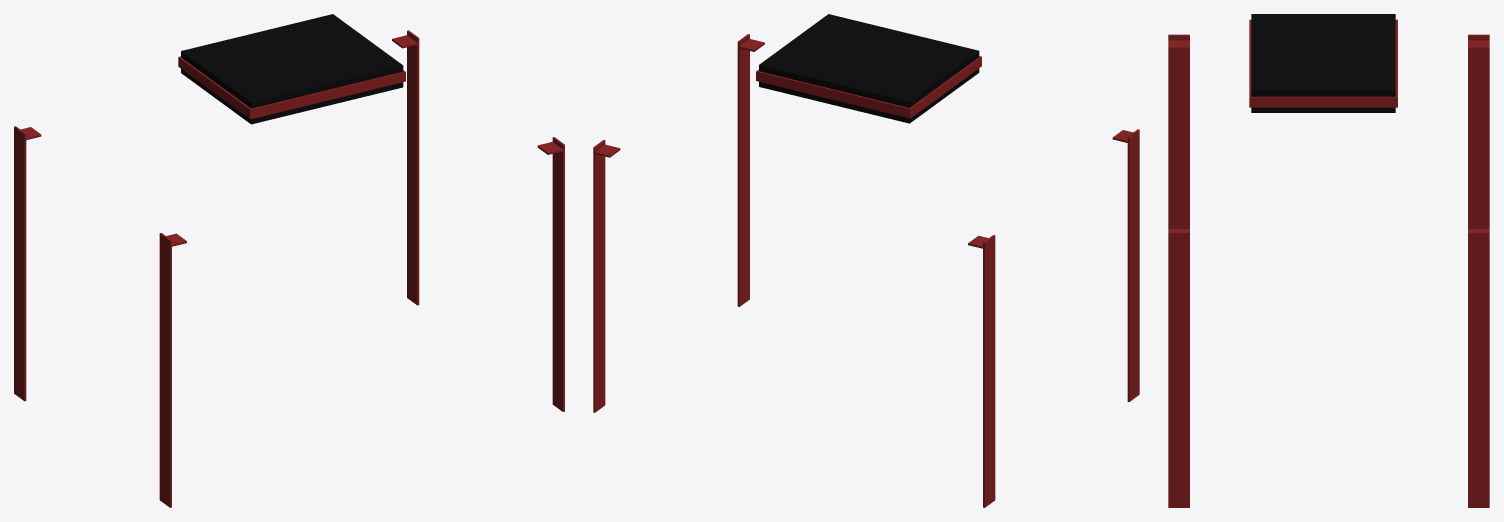
The model's file is z05_seal.obj.
3 views of the same model, side by side, from view 1: azimuth 30°, elevation 25°; view 2: azimuth 150°, elevation 25°; view 3: azimuth 270°, elevation 25° (orthographic). The views are drawn at different scales.
Visible parts, largest first — view 1: z05_seal; view 2: z05_seal; view 3: z05_seal.
Boxes of the visible parts, x1,y1,x2,y2 form: z05_seal: (14, 14, 564, 507); z05_seal: (593, 14, 1139, 507); z05_seal: (1168, 14, 1489, 507).
Bounding box in the file's own units: 1.3 × 1.09 × 0.89.
